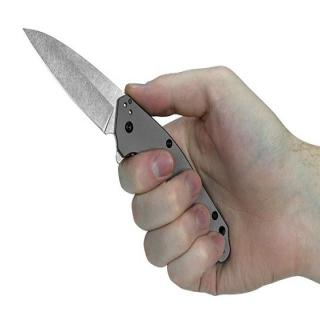knife: (20, 24, 234, 267)
